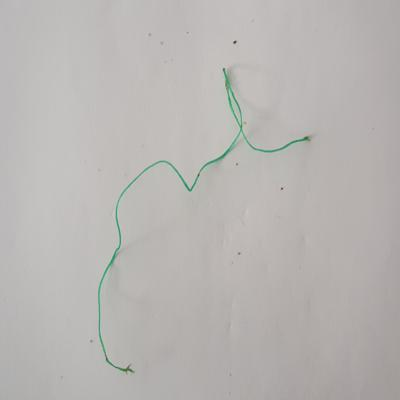thread: (93, 59, 315, 399)
